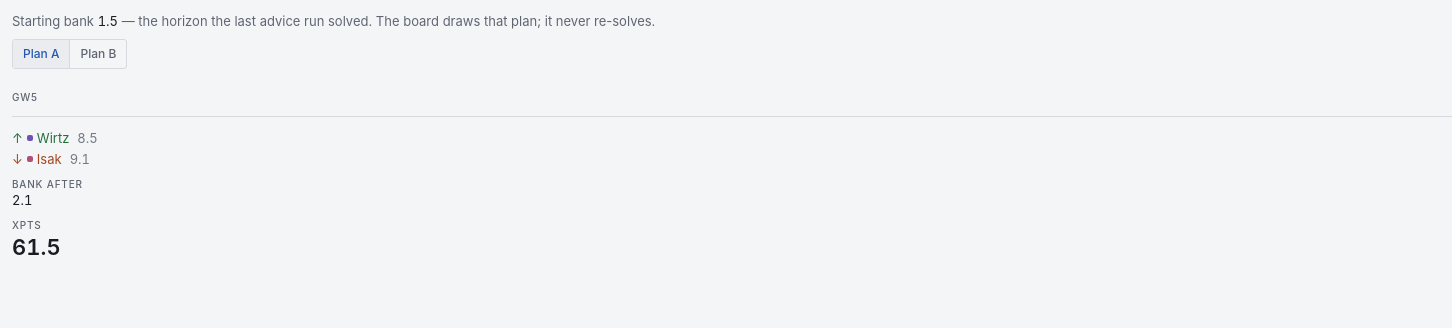
Scenario: PlannerBoard › switches to Plan B and draws its weeks
Click the tab "Plan B" at coordinates (98, 54), box 70,40 -> 126,68
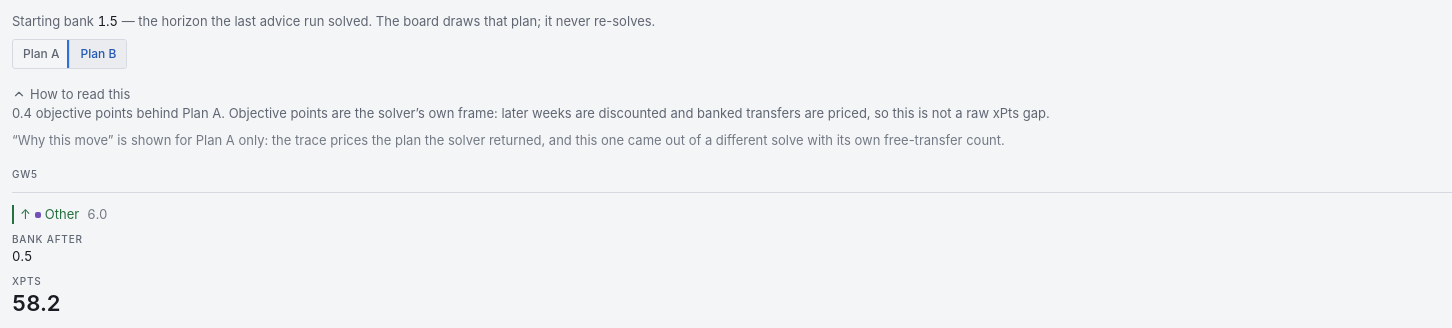
Result: the element with test id "board-in-300" is shown at 12,205 -> 1451,224
